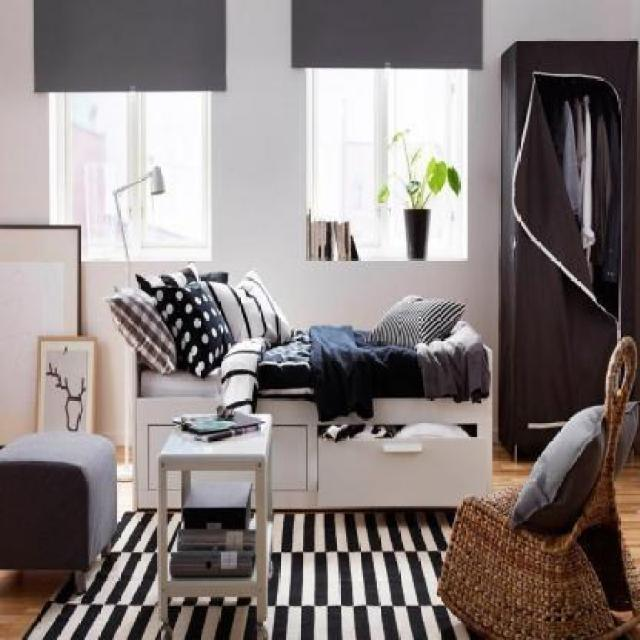tables: (156, 411, 272, 638)
